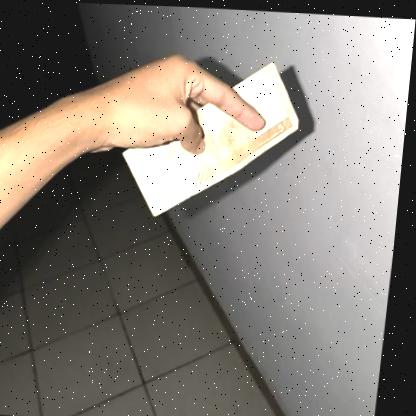five-back-vef: (106, 51, 309, 222)
